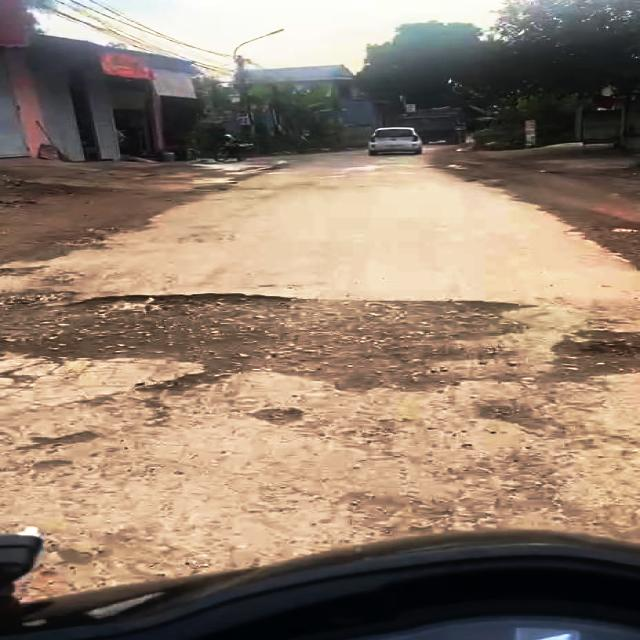pothole: (0, 288, 284, 375), (290, 301, 526, 390), (542, 331, 640, 378), (142, 371, 215, 398)
